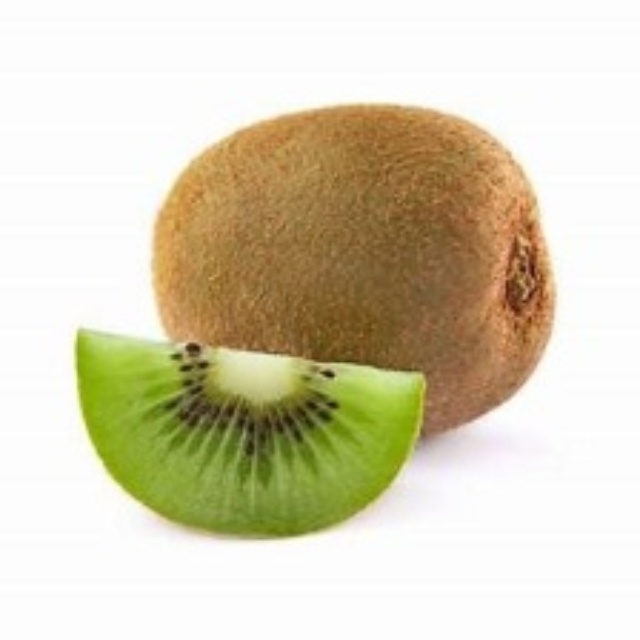kiwi: (150, 110, 569, 429), (44, 323, 438, 552)
